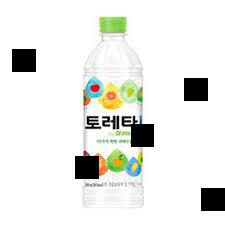toreta: (82, 11, 148, 212)
